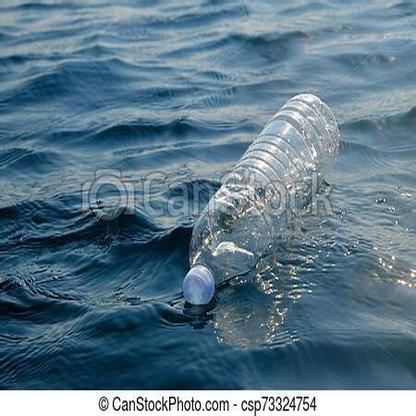plastic bottle: (184, 93, 338, 304)
